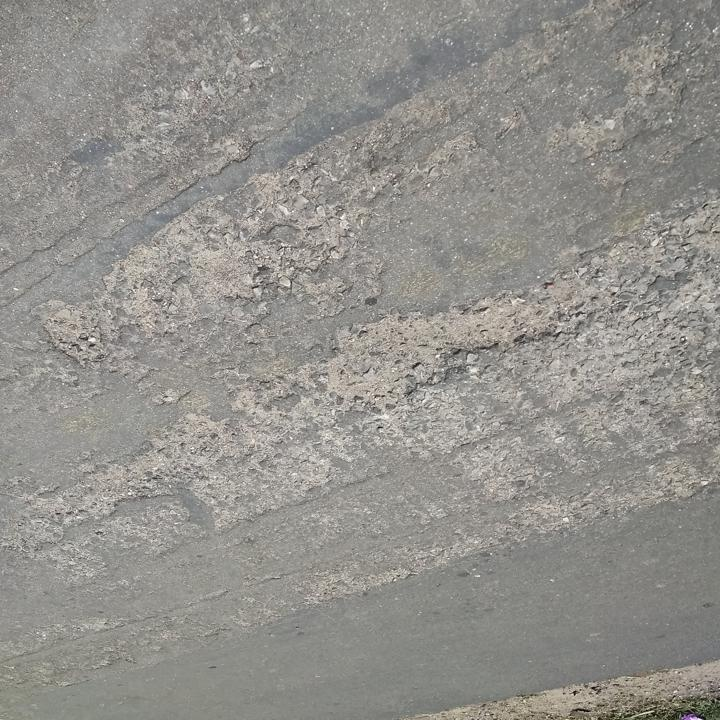pothole: (319, 287, 562, 410), (79, 417, 240, 523), (36, 303, 111, 366)
